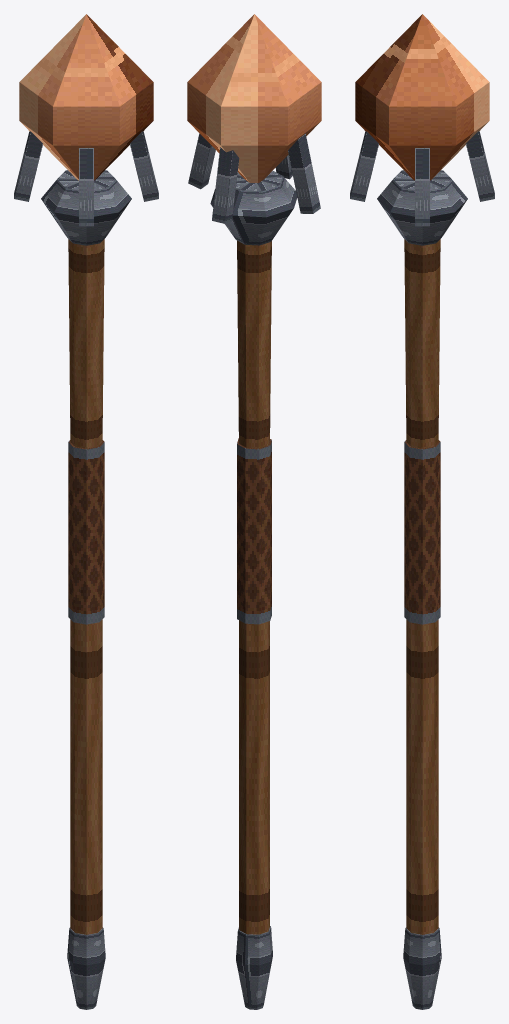
The model's file is cajado_de_cobre.glb.
3 views of the same model, side by side, from view 1: azimuth 90°, elevation 25°; view 2: azimuth 150°, elevation 25°; view 3: azimuth 270°, elevation 25° (orthographic).
Parts seen in each view (by area): view 1: cajado_de_cobre; view 2: cajado_de_cobre; view 3: cajado_de_cobre.
Part boxes in pixels (x1,y1,x2,y2): cajado_de_cobre: (14, 14, 158, 1009); cajado_de_cobre: (187, 14, 321, 1009); cajado_de_cobre: (350, 14, 494, 1009).
Size of the model in its own units: 0.2697 by 2.04 by 0.2697.
Materials: 1 (1 with a texture image).
